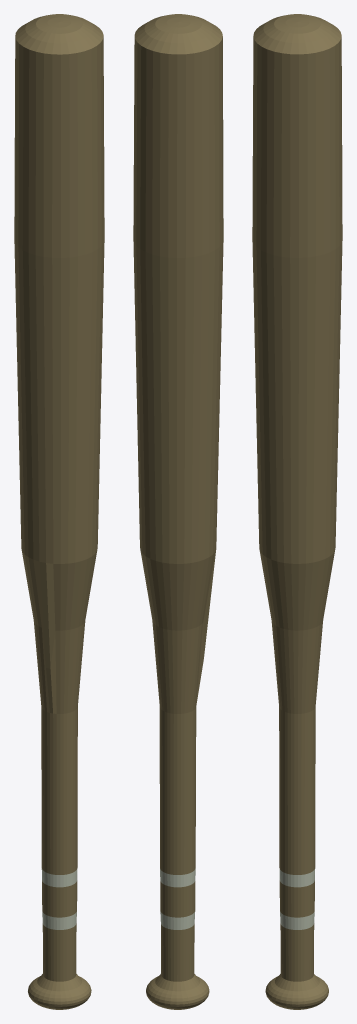
File: Baseball Idle 1.fbx
3 renders of one model, left to right at view 1: azimuth 90°, elevation 25°; view 2: azimuth 210°, elevation 25°; view 3: azimuth 270°, elevation 25°, orthographic.
Visible parts, largest first — view 1: Sphere; view 2: Sphere; view 3: Sphere.
Part boxes in pixels (box(x1,y1,x2,y2)): Sphere: box(14, 14, 104, 1009); Sphere: box(133, 14, 223, 1009); Sphere: box(252, 14, 342, 1009).
Size of the model in its own units: 0.3515 by 4.23 by 0.3515.
